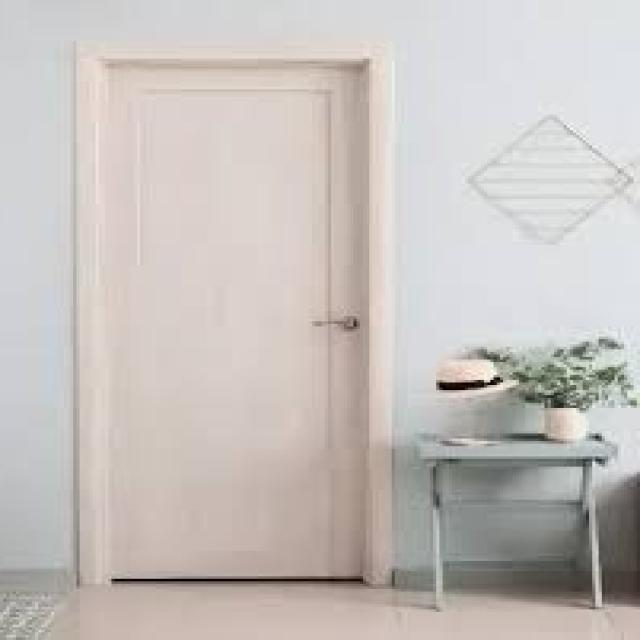door: (76, 50, 372, 582)
